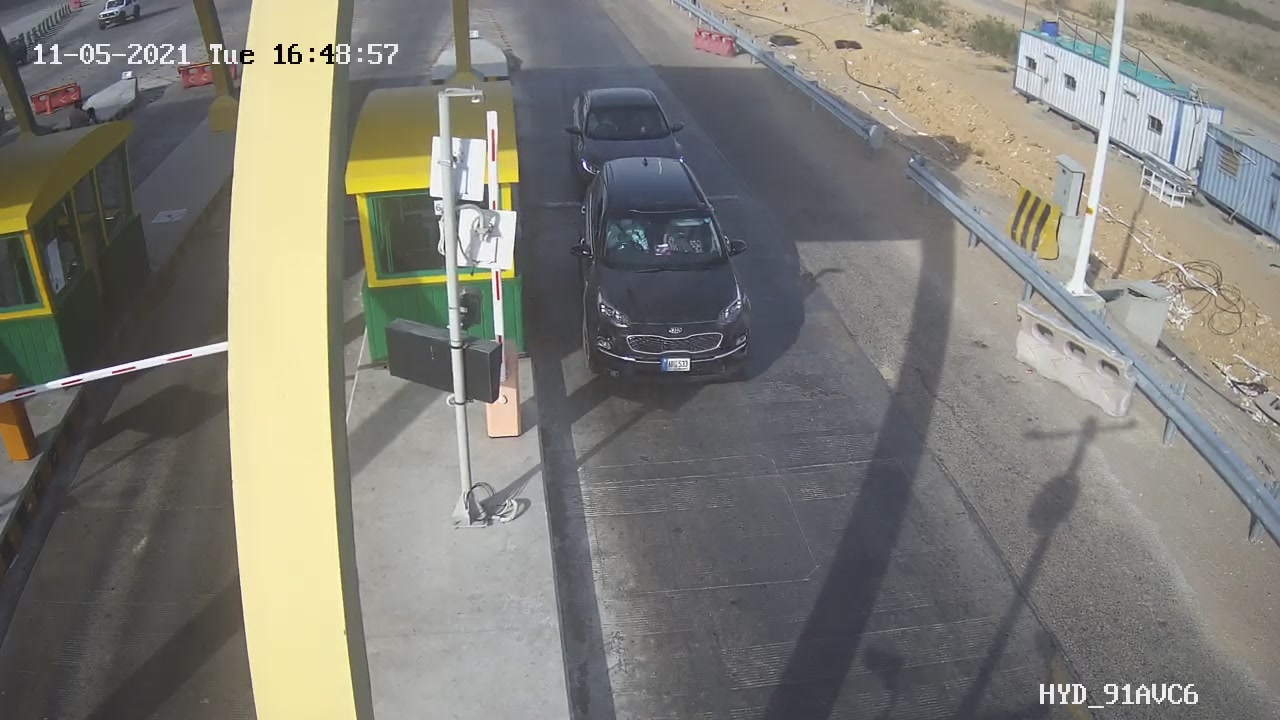F1: (551, 139, 776, 404)
